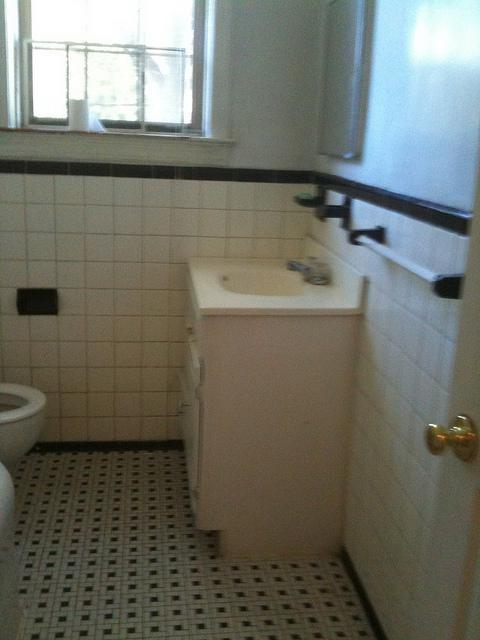Lavamanos: (208, 249, 338, 305)
